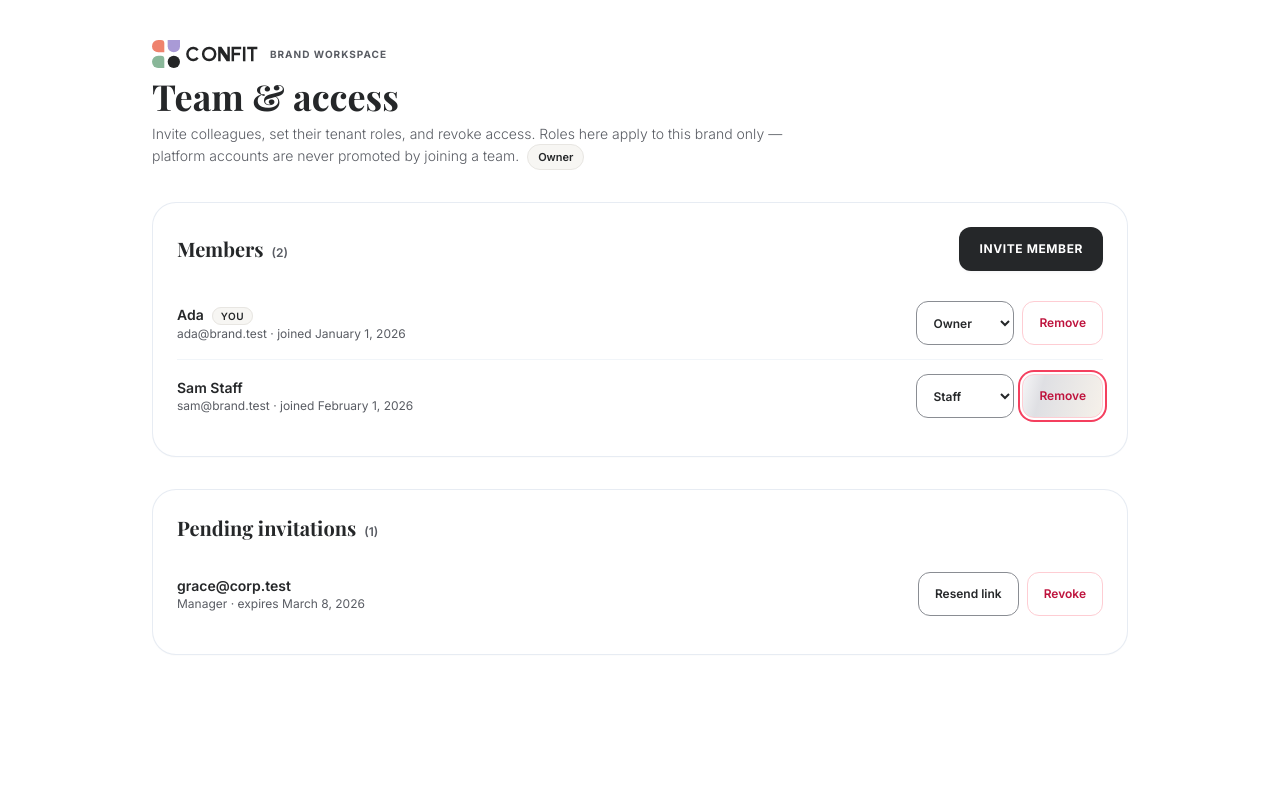
Test: BrandTeamView — dialog focus and keyboard contract › confirm dialog: destructive action receives initial focus and Escape dismisses
Click the button "Remove" in the row of "Sam Staff" at x=1063, y=396, box [1022, 374, 1103, 418]
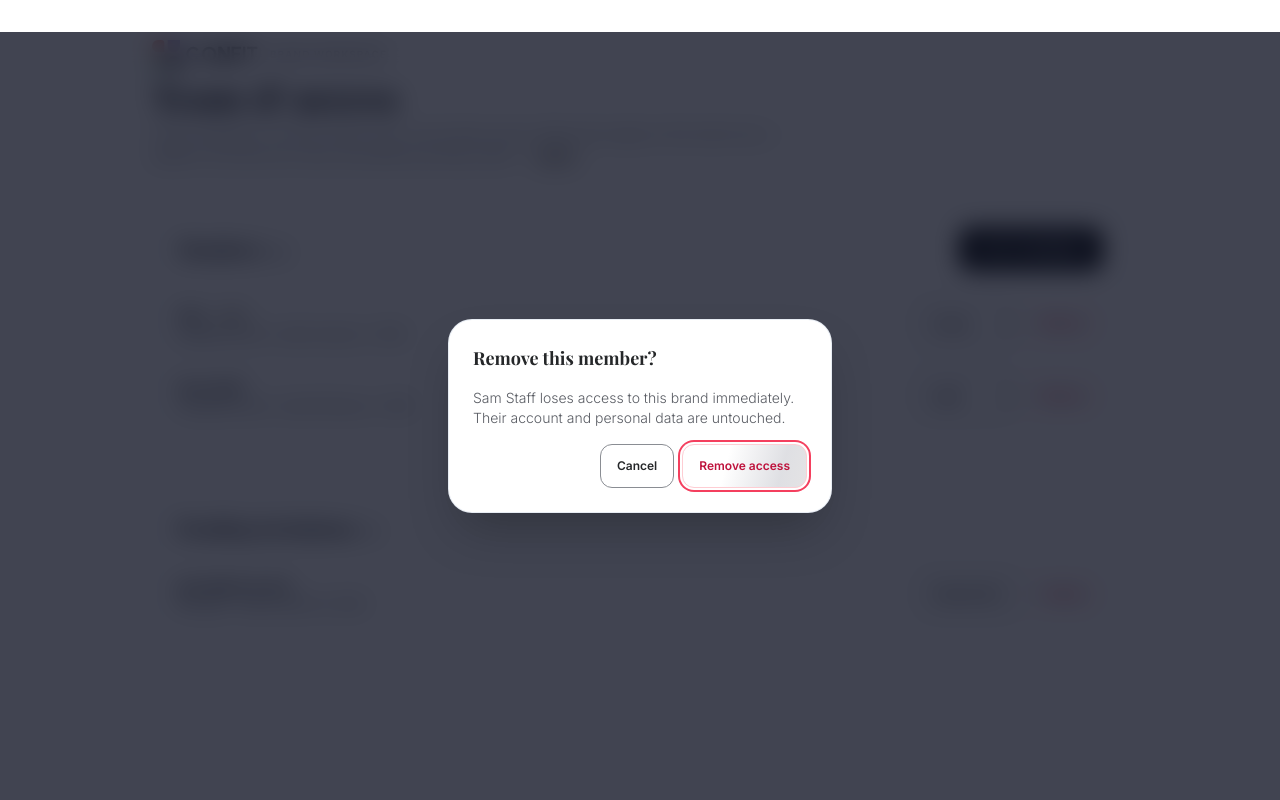
Now the dialog is shown, box [448, 319, 832, 513]
Press Escape
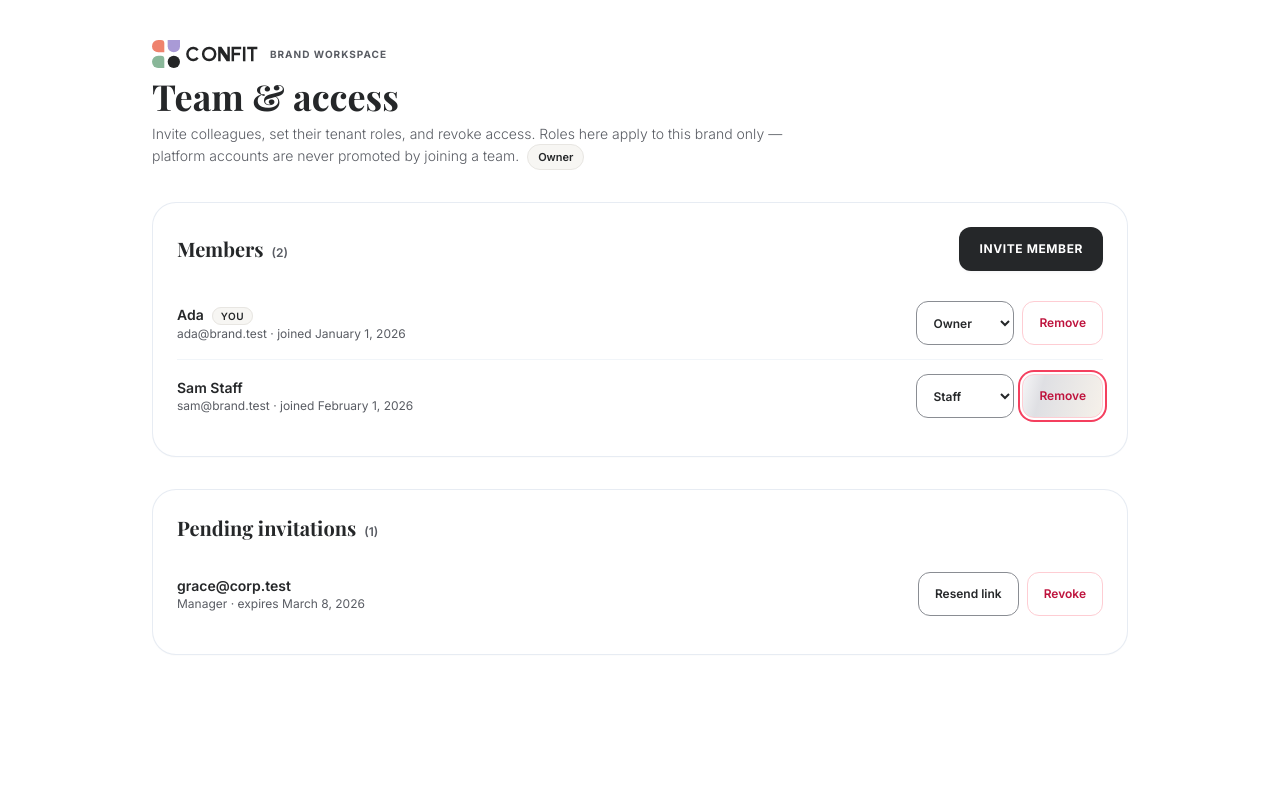
Now the dialog is gone
